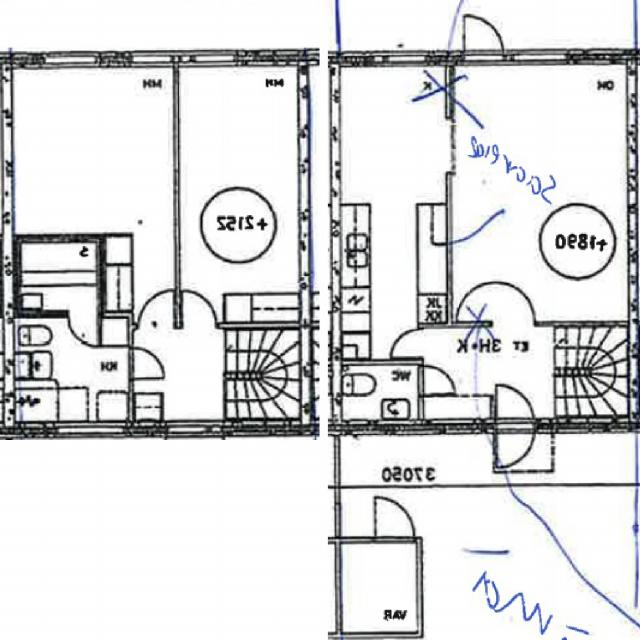door: (464, 8, 504, 66), (496, 380, 535, 437), (496, 421, 535, 477), (376, 496, 414, 542), (137, 288, 172, 330), (182, 288, 216, 330), (126, 348, 162, 378), (68, 312, 97, 348), (417, 366, 451, 394), (391, 330, 424, 357)
